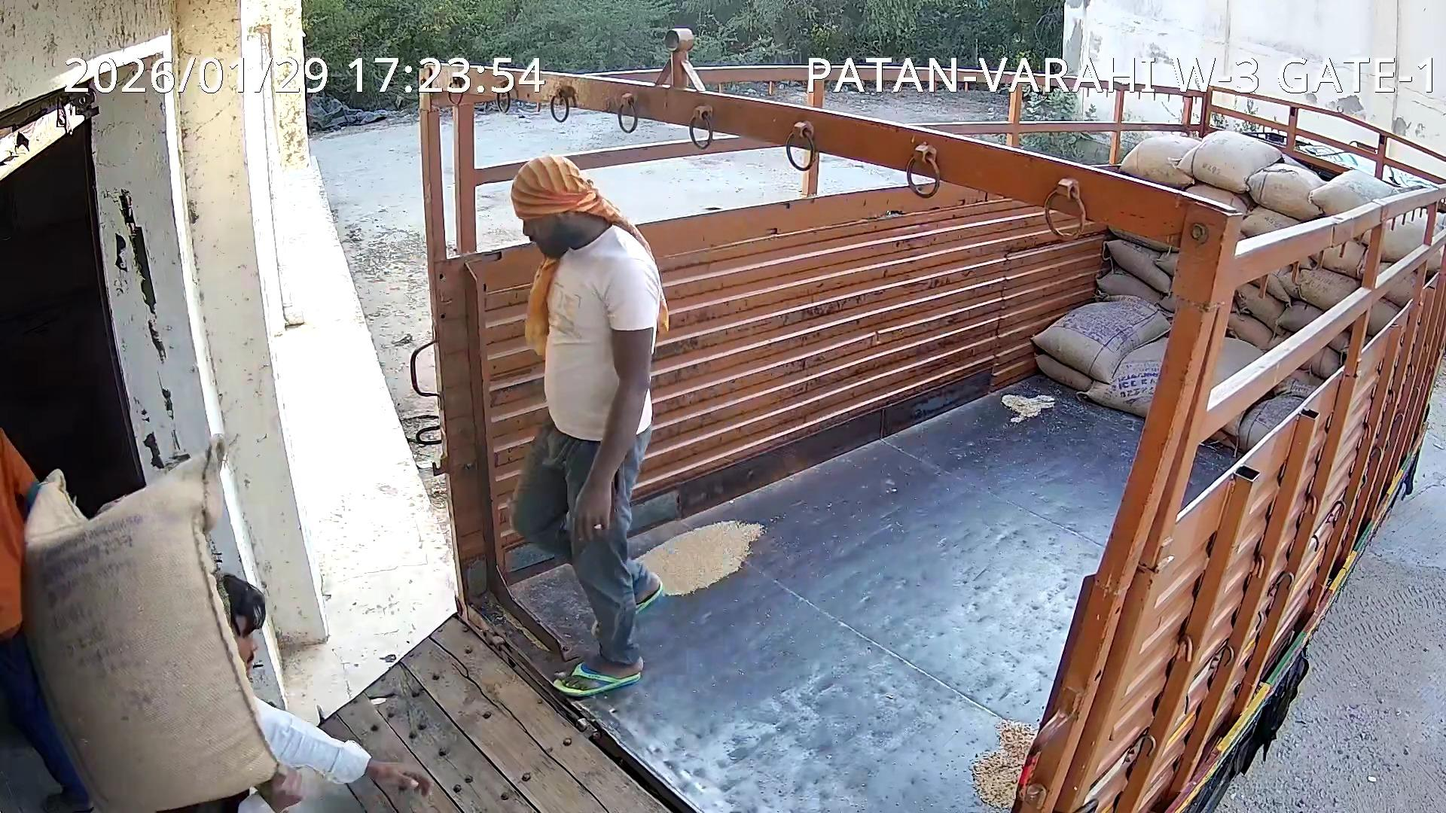Sack: (24, 437, 276, 812)
